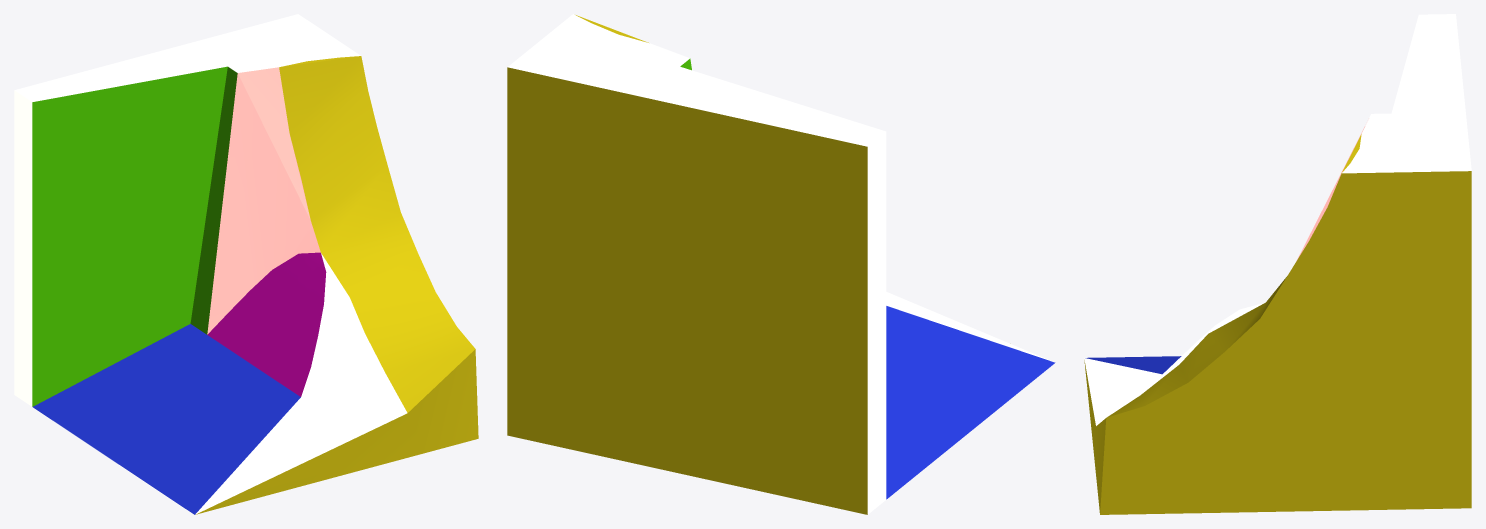
Rendered from pvt_color2.gltf.
3 renders of one model, left to right at view 1: azimuth 30°, elevation 25°; view 2: azimuth 150°, elevation 25°; view 3: azimuth 270°, elevation 25°, orthographic. The views are drawn at different scales.
Visible parts, largest first — view 1: Plane; view 2: Plane; view 3: Plane.
Part boxes in pixels (x1=…): Plane: x1=14, y1=14, x2=478, y2=514; Plane: x1=507, y1=14, x2=1055, y2=514; Plane: x1=1084, y1=14, x2=1471, y2=514.
Bounding box in the file's own units: 2 × 1.92 × 2.
